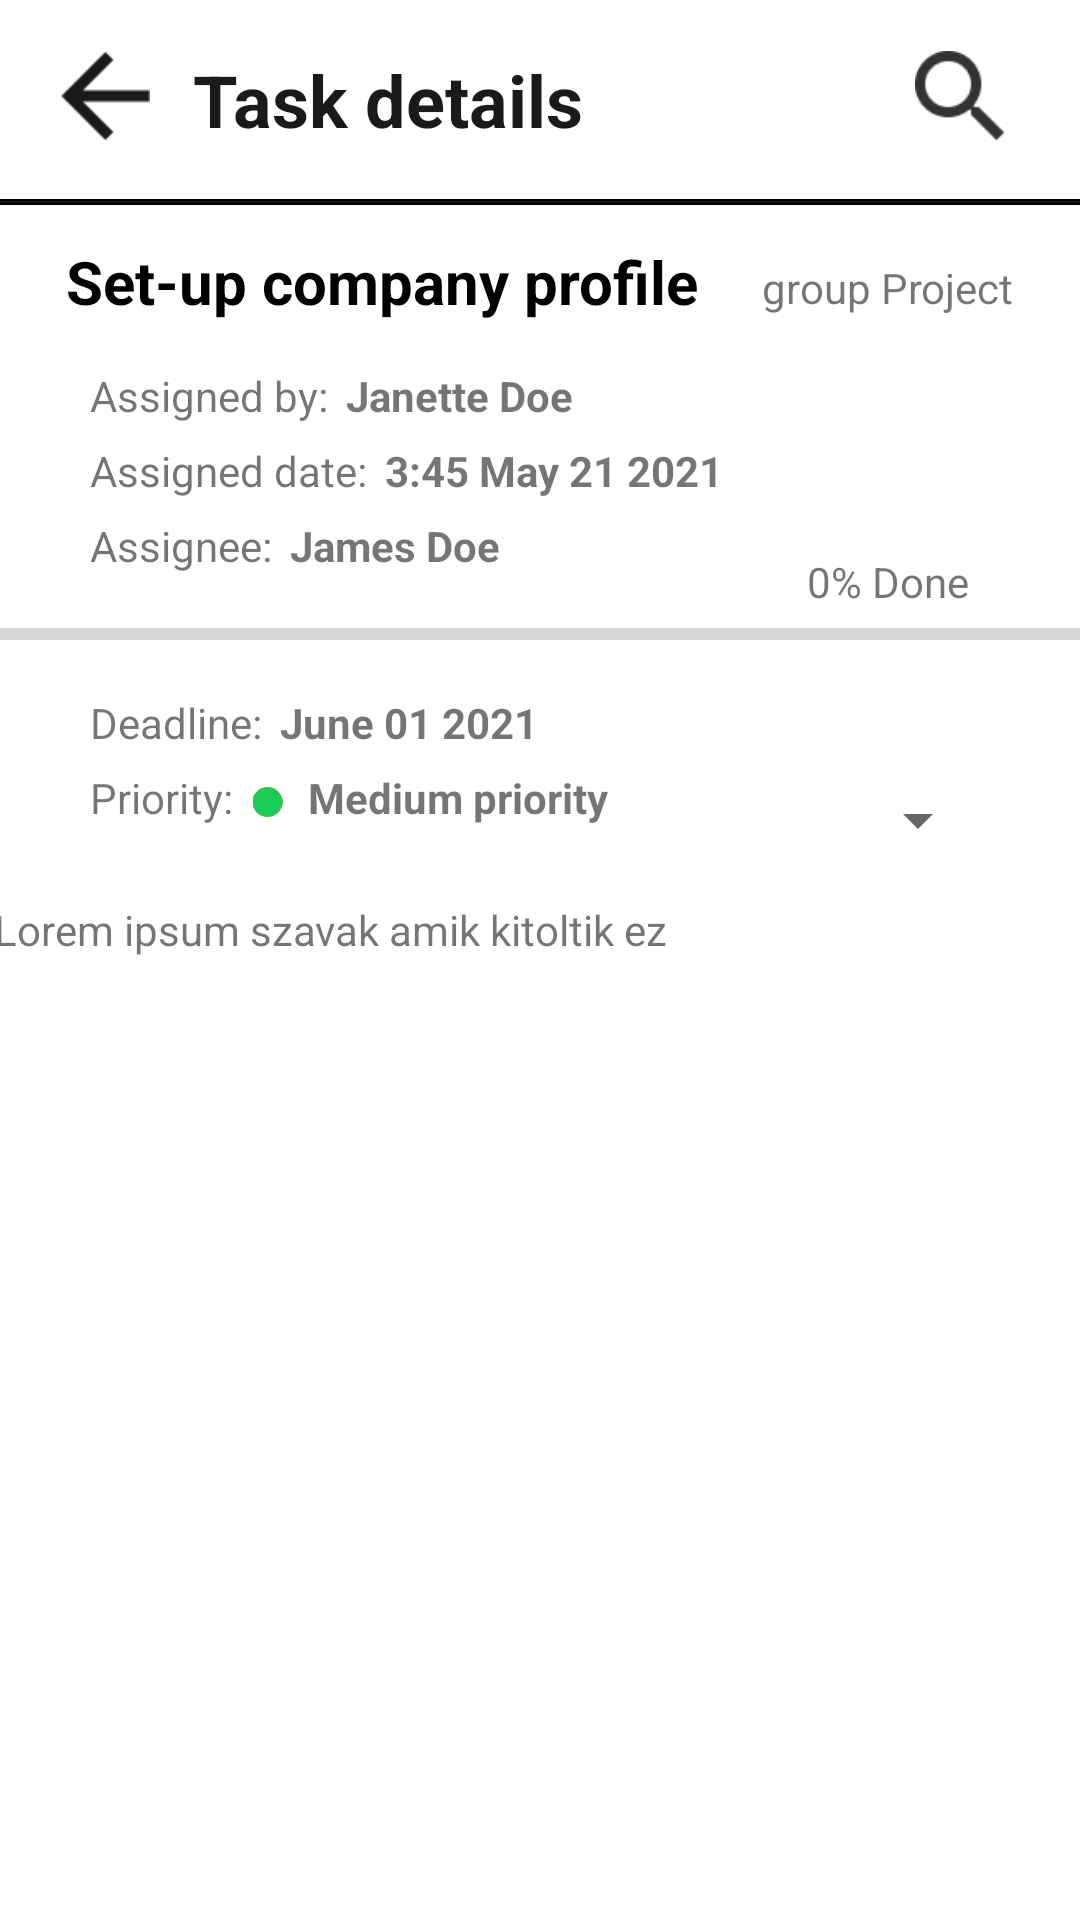

Where to tap for icons on this 1080 × 1920 app screen, as [x,y]:
backbuttonicon: [105,96]
searchicon: [960,96]
